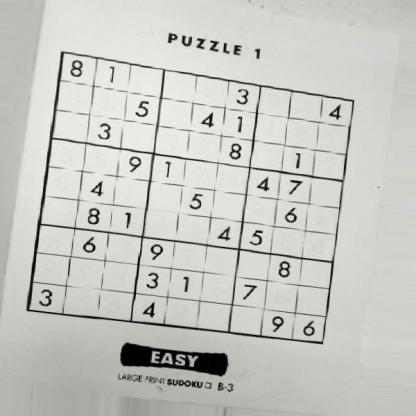sudoku: (25, 49, 356, 348)
